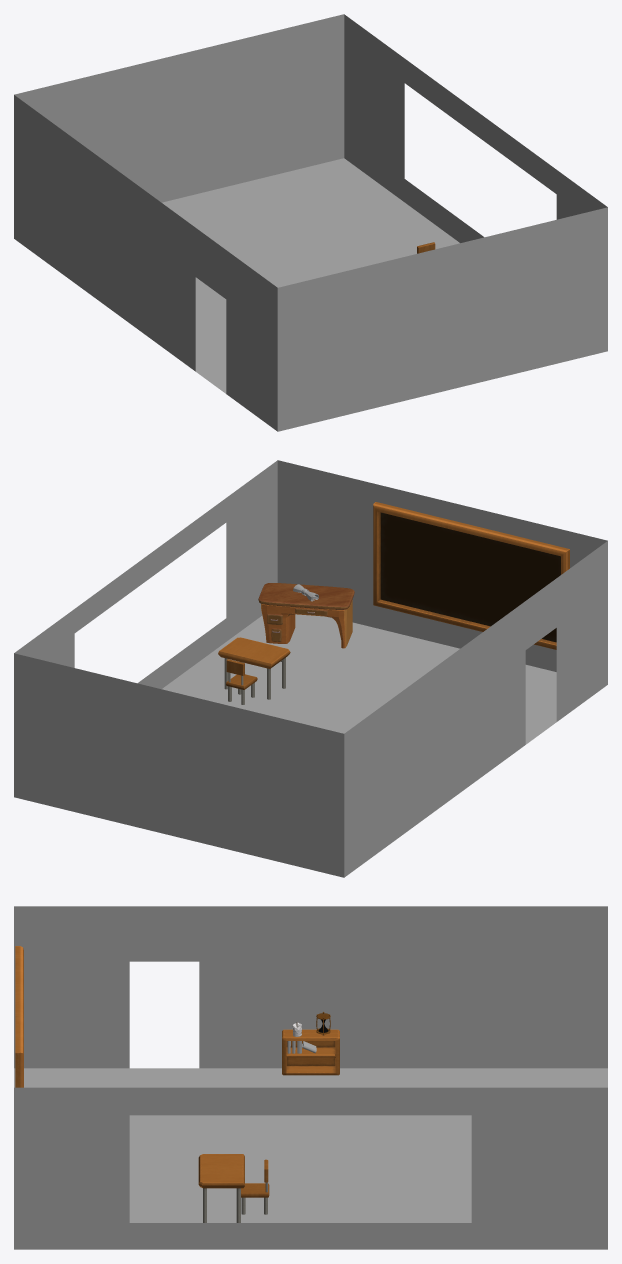
File: quickexport.fbx
3 views of the same model, one above another, from view 1: azimuth 30°, elevation 25°; view 2: azimuth 150°, elevation 25°; view 3: azimuth 270°, elevation 25° (orthographic). The views are drawn at different scales.
Parts seen in each view (by area): view 1: Floor_Walls; view 2: Floor_Walls, pCube6, polySurface2, Student_Desk, Student_Chair; view 3: Floor_Walls, BookShelfSmall, Student_Desk, pCube6, Student_Chair.
Boxes of the visible parts, box(x1,y1,x2,y2) form: Floor_Walls: box(14, 14, 607, 431); Floor_Walls: box(14, 460, 607, 877); pCube6: box(373, 502, 569, 649); polySurface2: box(258, 583, 354, 648); Student_Desk: box(218, 637, 290, 699); Student_Chair: box(226, 659, 257, 704); Floor_Walls: box(14, 906, 607, 1249); BookShelfSmall: box(282, 1029, 339, 1075); Student_Desk: box(198, 1154, 244, 1222); pCube6: box(15, 946, 23, 1087); Student_Chair: box(241, 1159, 269, 1214).
Size of the model in its own units: 100 by 42.09 by 138.
